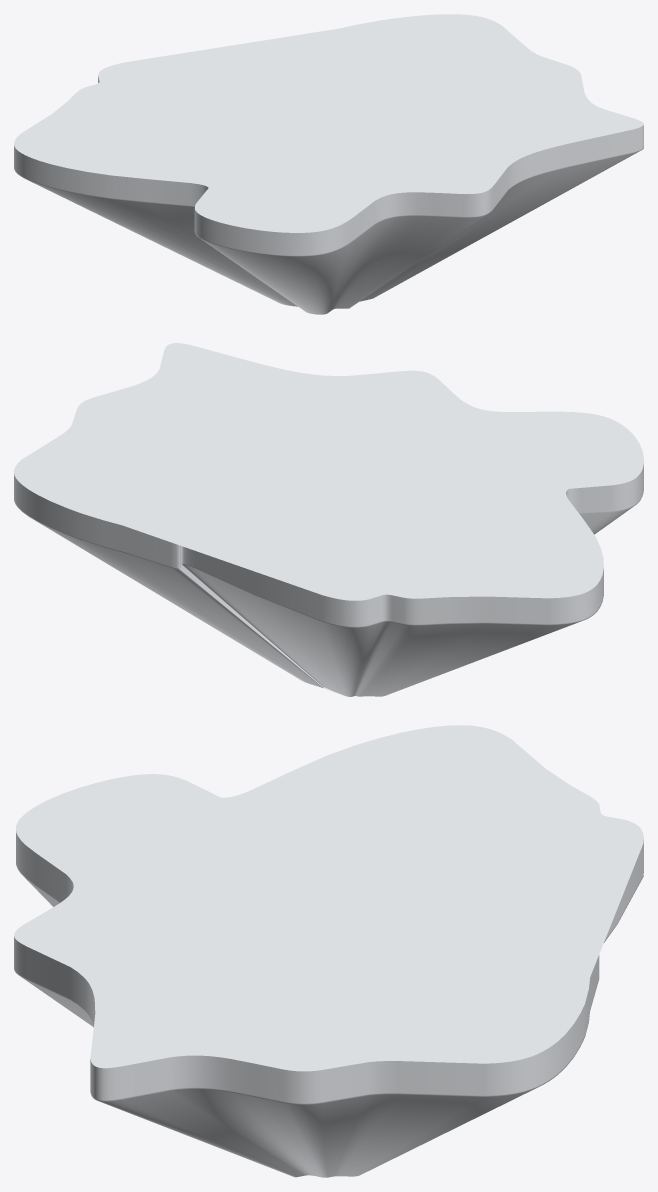
Rendered from mon.fbx.
3 renders of one model, top to bottom at view 1: azimuth 30°, elevation 25°; view 2: azimuth 150°, elevation 25°; view 3: azimuth 270°, elevation 25°, orthographic. The views are drawn at different scales.
Parts seen in each view (by area): view 1: Terra; view 2: Terra; view 3: Terra.
Part boxes in pixels (x1,y1,x2,y2): Terra: [14, 14, 643, 314]; Terra: [14, 343, 643, 696]; Terra: [14, 725, 643, 1177].
Size of the model in its own units: 48201 by 16113 by 37061.
1 material, 1 textured.
